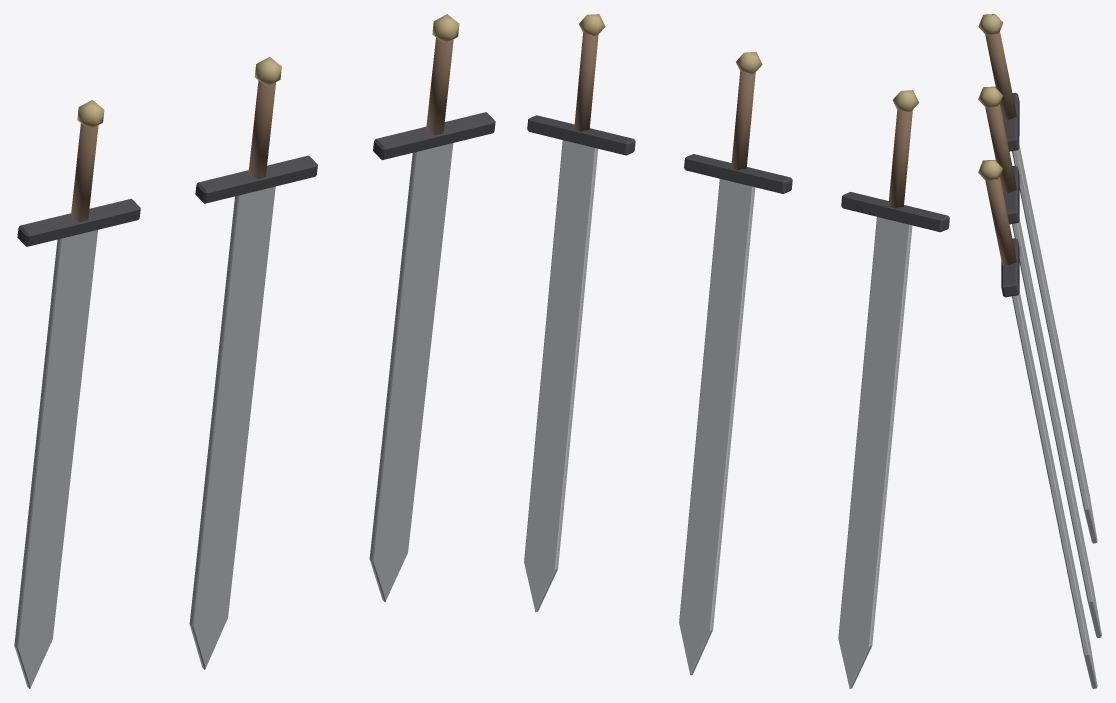
File: blades.glb
The picture shows the model from 3 angles, left to right: view 1: azimuth 30°, elevation 25°; view 2: azimuth 150°, elevation 25°; view 3: azimuth 270°, elevation 25°; orthographic projection. The views are drawn at different scales.
Parts seen in each view (by area): view 1: blades; view 2: blades; view 3: blades.
Boxes of the visible parts, x1,y1,x2,y2 form: blades: [14, 14, 495, 688]; blades: [524, 14, 949, 688]; blades: [978, 14, 1101, 688].
Bounding box in the file's own units: 0.9253 × 1.24 × 0.2522.
